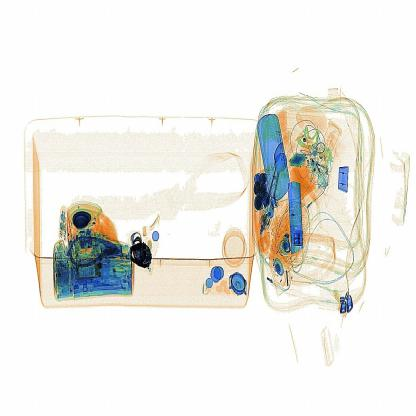pliers: (280, 178, 313, 262)
